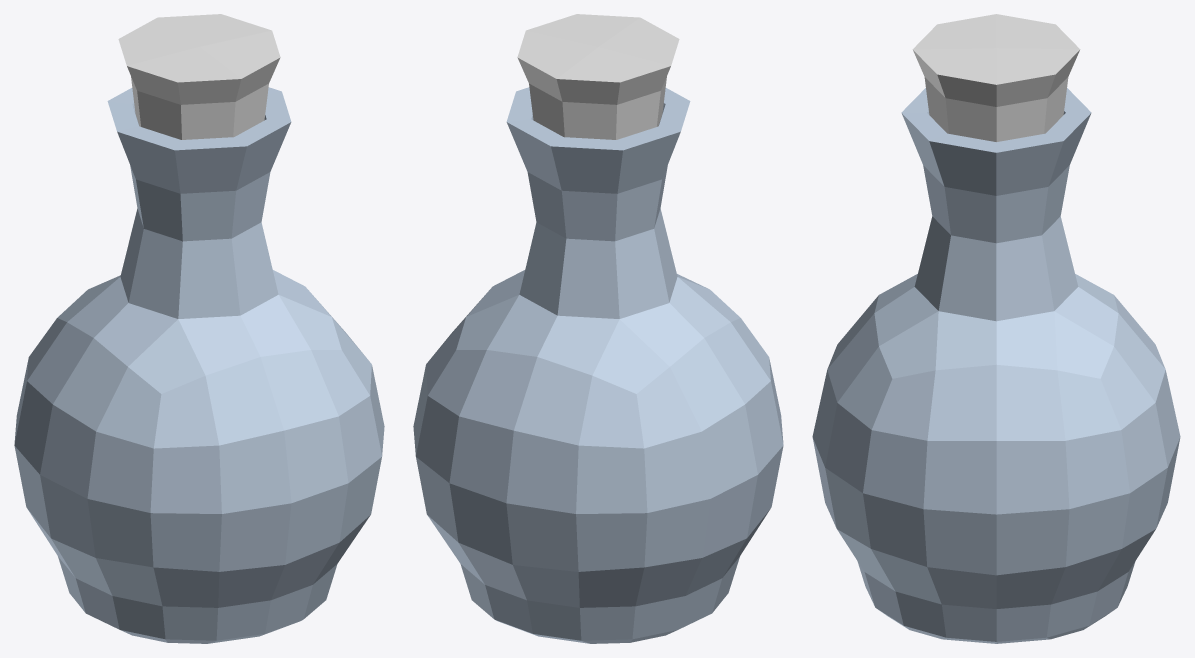
Rendered from Potion 1.fbx.
The picture shows the model from 3 angles, left to right: view 1: azimuth 30°, elevation 25°; view 2: azimuth 150°, elevation 25°; view 3: azimuth 270°, elevation 25°; orthographic projection.
Visible parts, largest first — view 1: Potion.001; view 2: Potion.001; view 3: Potion.001.
Part boxes in pixels (x1,y1,x2,y2): Potion.001: [14, 14, 384, 643]; Potion.001: [413, 14, 783, 643]; Potion.001: [812, 14, 1180, 643].
Bounding box in the file's own units: 16.79 × 16.79 × 27.45.
